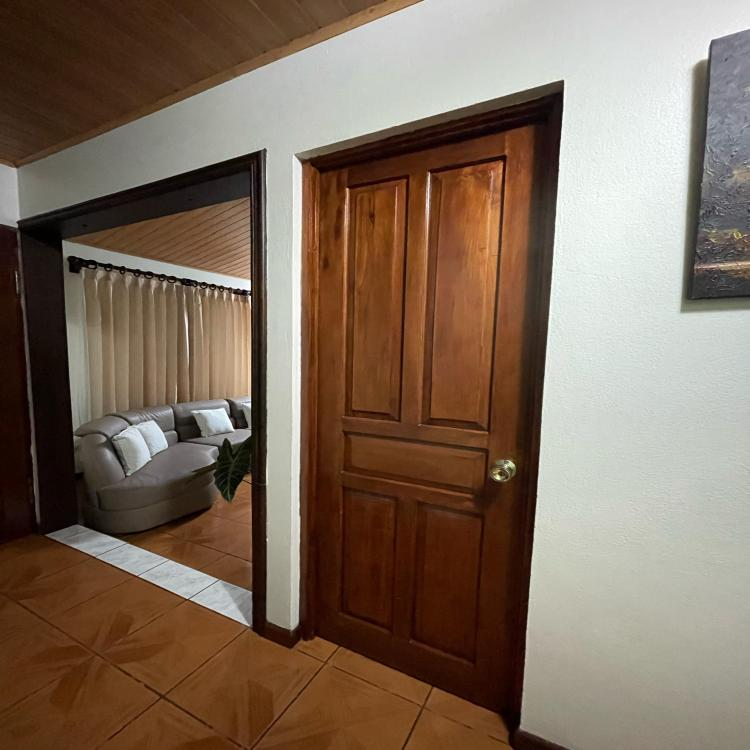ClosedDoor: (284, 55, 585, 743)
OpenDoor: (10, 162, 267, 632)
